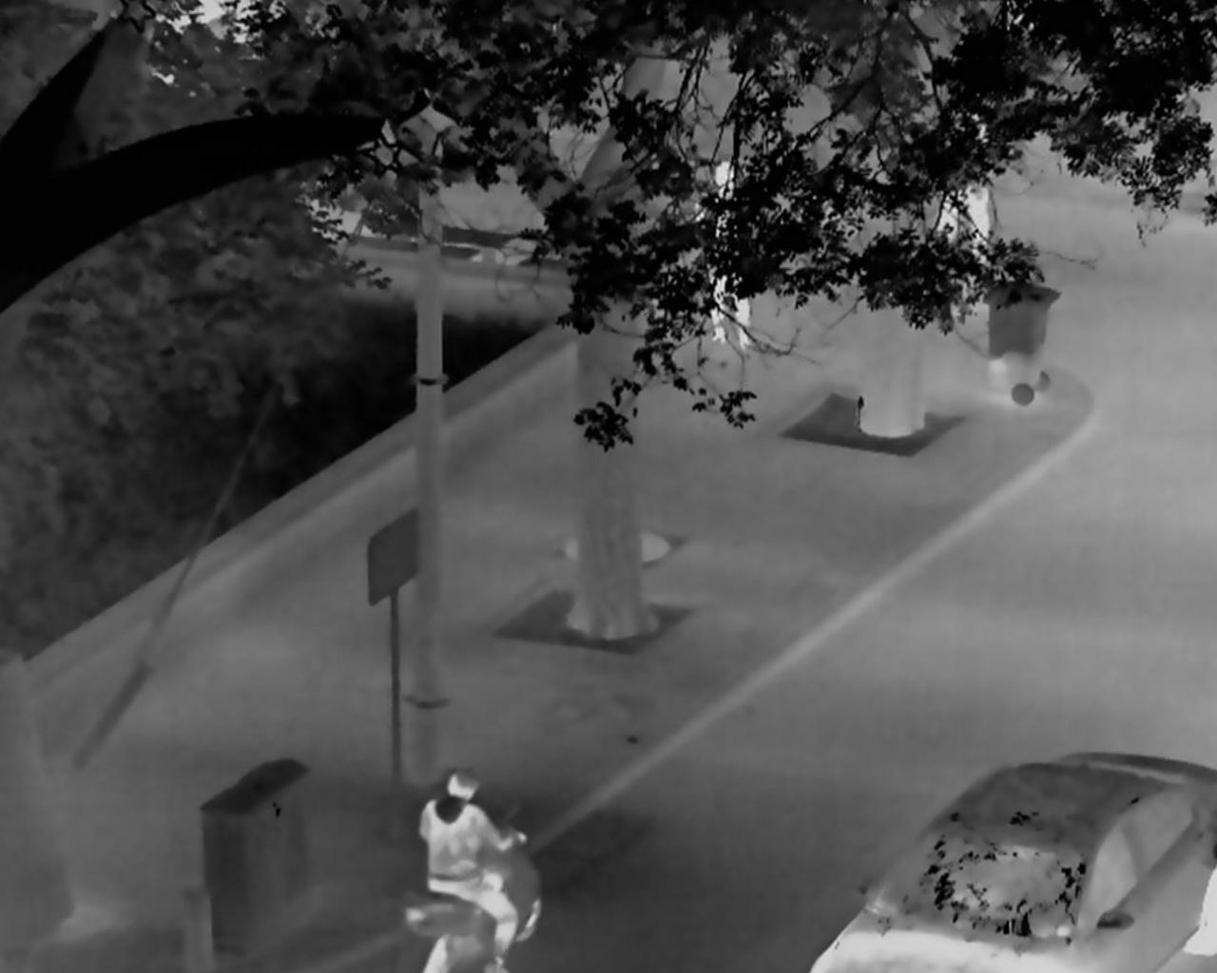person: (416, 766, 529, 973), (694, 160, 754, 352), (933, 105, 991, 271)
